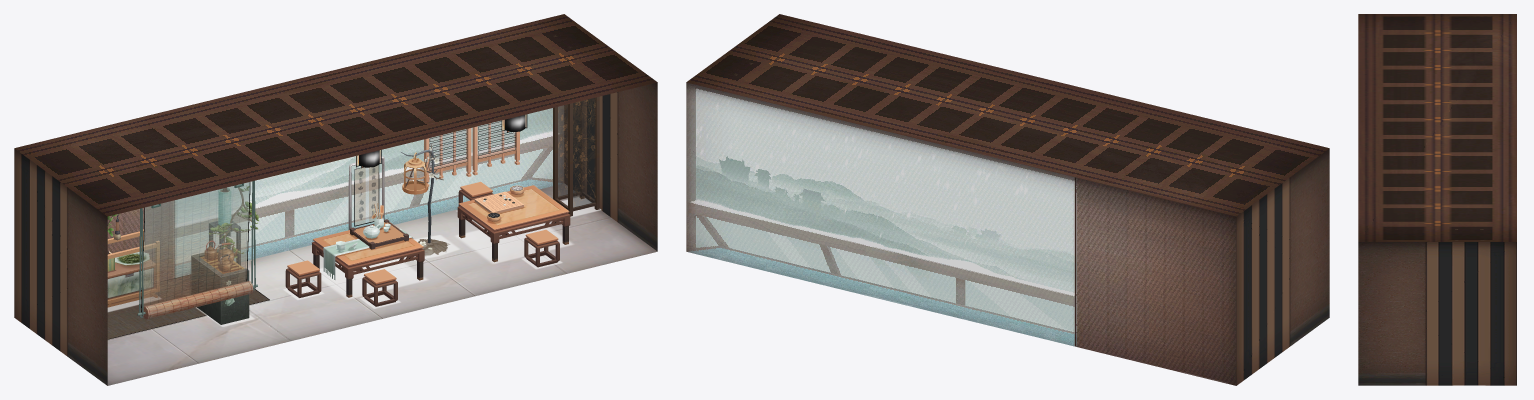
The model's file is teaHouse.glb.
3 views of the same model, side by side, from view 1: azimuth 30°, elevation 25°; view 2: azimuth 150°, elevation 25°; view 3: azimuth 270°, elevation 25° (orthographic). The views are drawn at different scales.
Parts seen in each view (by area): view 1: ROOM_room, ROOM_floor, furni_teaHouse_rollerBlind_02, furni_teaHouse_tableWeiqi_01, furni_teaHouse_tableTea_01, furni_teaHouse_column_02, furni_teaHouse_teaCooktop_01, furni_teaHouse_cabinet_01, furni_teaHouse_carpet_01, furni_teaHouse_rollerBlind_01, furni_teaHouse_column_01, shadow.006 (+15 smaller); view 2: ROOM_room, ROOM_LDoor; view 3: ROOM_room, ROOM_RDoor.
Boxes of the visible parts, x1,y1,x2,y2 form: ROOM_room: (14, 14, 657, 385); ROOM_floor: (107, 183, 657, 385); furni_teaHouse_rollerBlind_02: (141, 182, 250, 315); furni_teaHouse_tableWeiqi_01: (457, 185, 570, 262); furni_teaHouse_tableTea_01: (312, 203, 424, 297); furni_teaHouse_column_02: (558, 98, 595, 207); furni_teaHouse_teaCooktop_01: (191, 240, 249, 324); furni_teaHouse_cabinet_01: (107, 214, 159, 307); furni_teaHouse_carpet_01: (107, 274, 269, 339); furni_teaHouse_rollerBlind_01: (137, 180, 257, 319); furni_teaHouse_column_01: (553, 29, 599, 216); shadow.006: (455, 223, 573, 263); ROOM_room: (686, 14, 1329, 385); ROOM_LDoor: (1297, 251, 1315, 341); ROOM_room: (1358, 14, 1516, 385); ROOM_RDoor: (1381, 320, 1414, 385).
Bounding box in the file's own units: 7.52 × 2.2 × 2.24.
8 materials, 8 textured.
